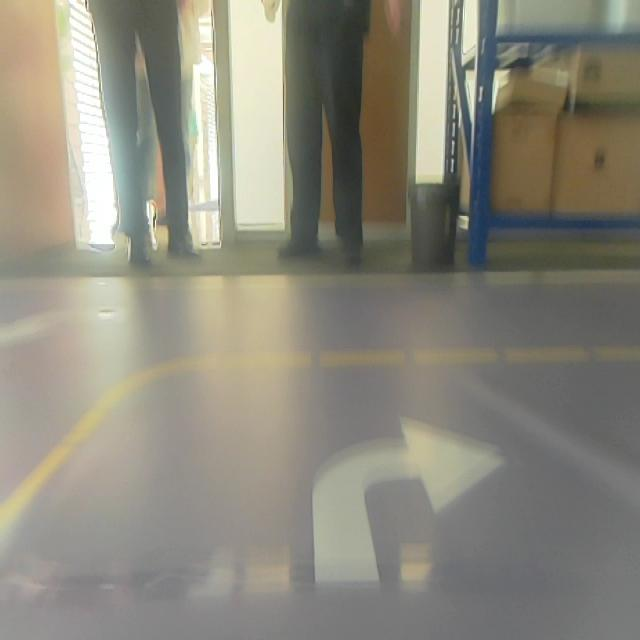left_lane: (0, 370, 139, 541)
